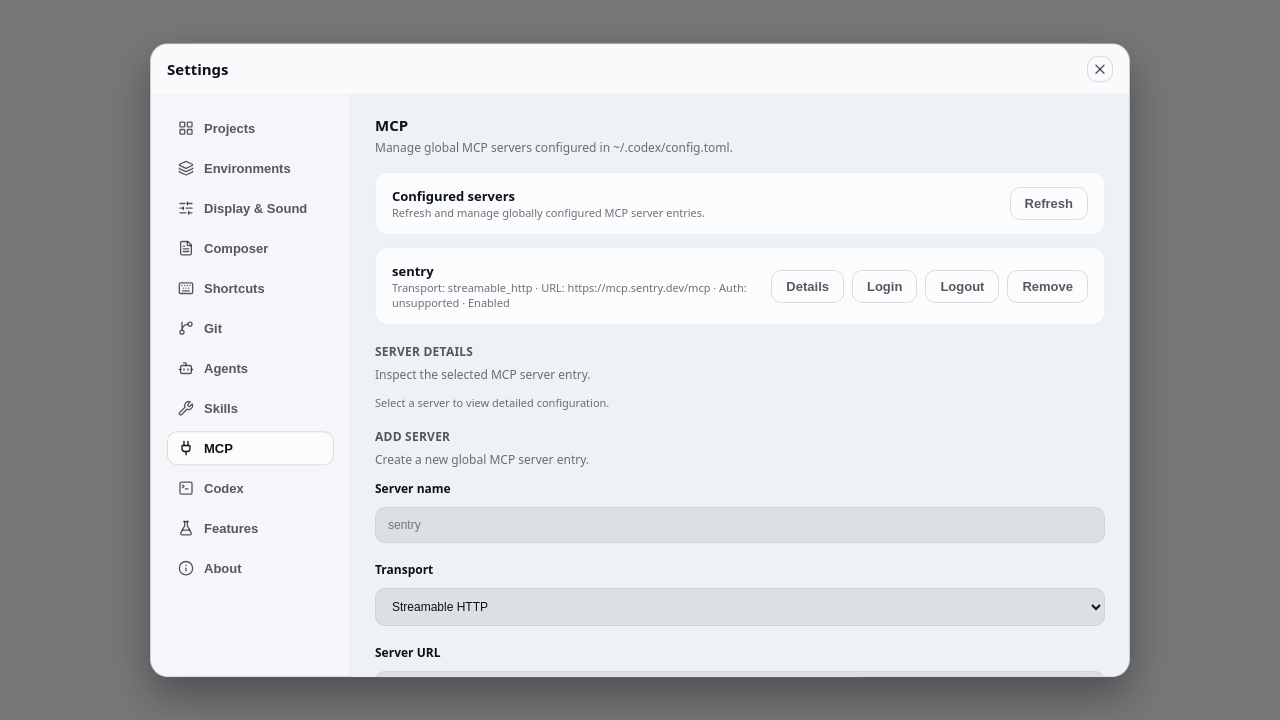
Test: SettingsView MCP › renders configured MCP servers and loads details
Expected: the text "sentry" is shown, [392,262,434,280]
Click the button "Details" at (808, 286), box [771,270,844,303]
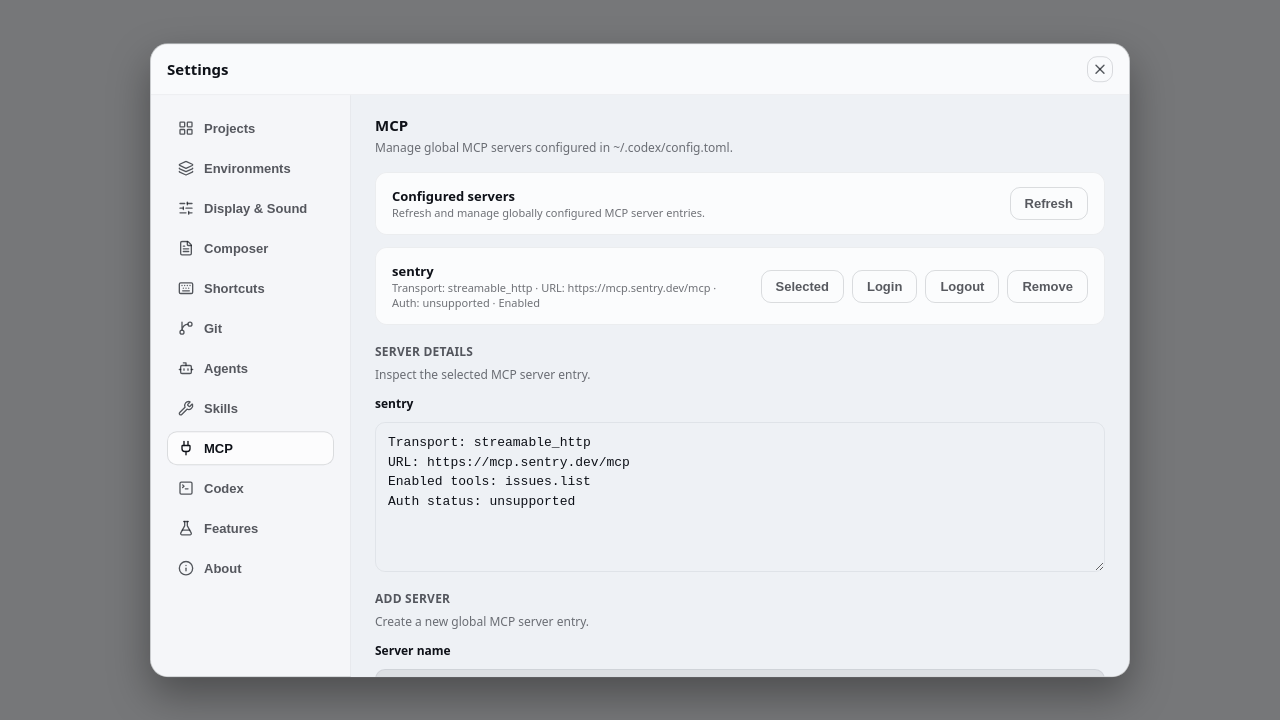
Result: the text box showing "Transport: streamable_http" is shown at [375,422,1105,572]
